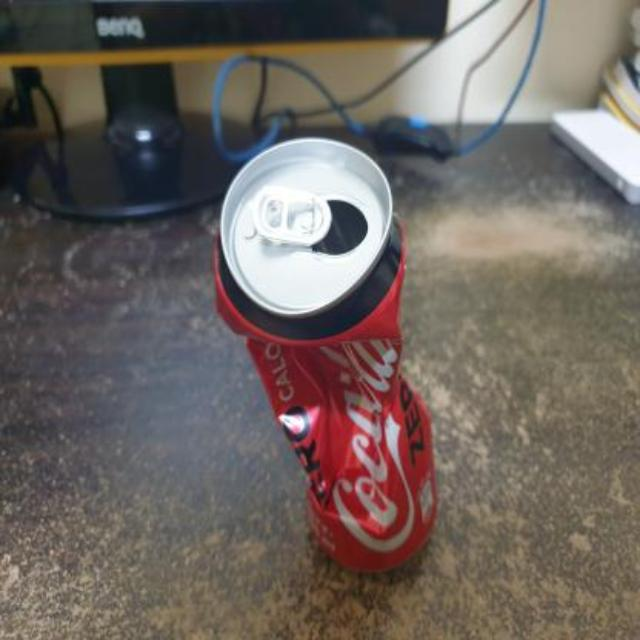metal: (212, 137, 434, 568)
